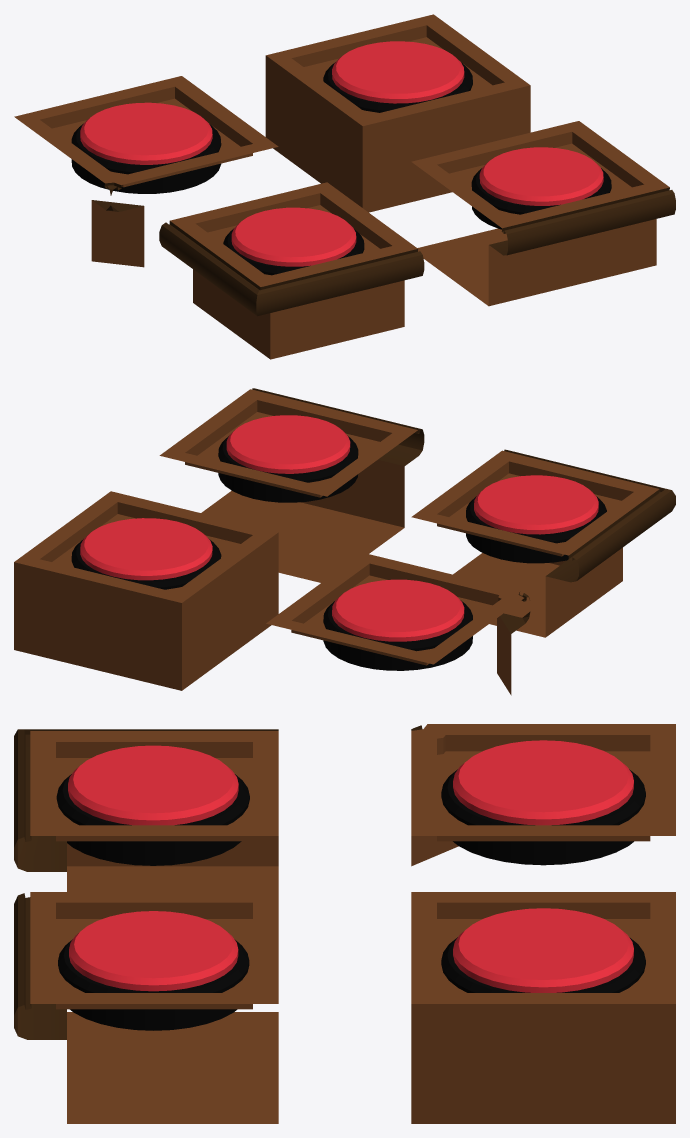
The model's file is BotonesMesa.fbx.
3 views of the same model, one above another, from view 1: azimuth 30°, elevation 25°; view 2: azimuth 150°, elevation 25°; view 3: azimuth 270°, elevation 25° (orthographic). The views are drawn at different scales.
Visible parts, largest first — view 1: InteriorMesa.002, BordeMesa.001, EsquinaMesa.001, InteriorMesa.001; view 2: InteriorMesa.002, BordeMesa.001, EsquinaMesa.001, InteriorMesa.001; view 3: InteriorMesa.002, BordeMesa.001, EsquinaMesa.001, InteriorMesa.001.
Part boxes in pixels (bbox=[...]): InteriorMesa.002: bbox=[265, 14, 530, 212]; BordeMesa.001: bbox=[411, 121, 675, 306]; EsquinaMesa.001: bbox=[159, 182, 424, 359]; InteriorMesa.001: bbox=[14, 76, 278, 267]; InteriorMesa.002: bbox=[14, 491, 278, 690]; BordeMesa.001: bbox=[159, 388, 424, 582]; EsquinaMesa.001: bbox=[411, 449, 675, 637]; InteriorMesa.001: bbox=[266, 552, 530, 695]; InteriorMesa.002: bbox=[411, 892, 675, 1123]; BordeMesa.001: bbox=[14, 892, 278, 1123]; EsquinaMesa.001: bbox=[14, 729, 278, 891]; InteriorMesa.001: bbox=[411, 724, 675, 866].
Bounding box in the file's own units: 500 × 103 × 500.
